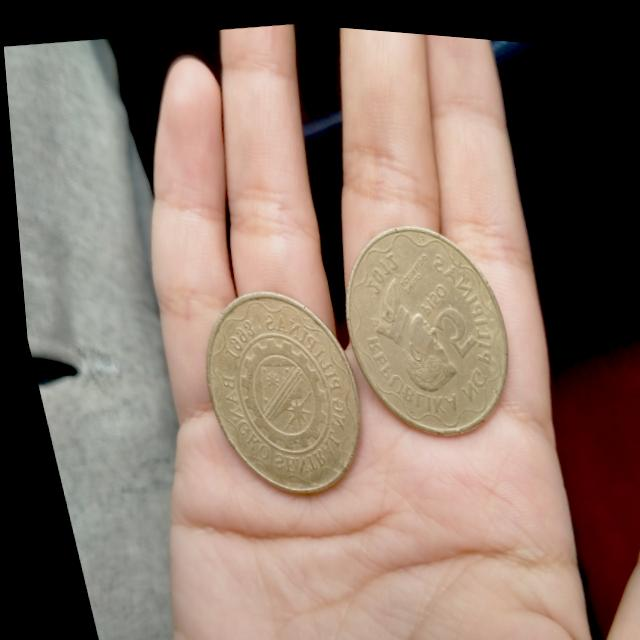5_Old_Back: (181, 268, 370, 495)
5_Old_Front: (396, 259, 489, 366)
